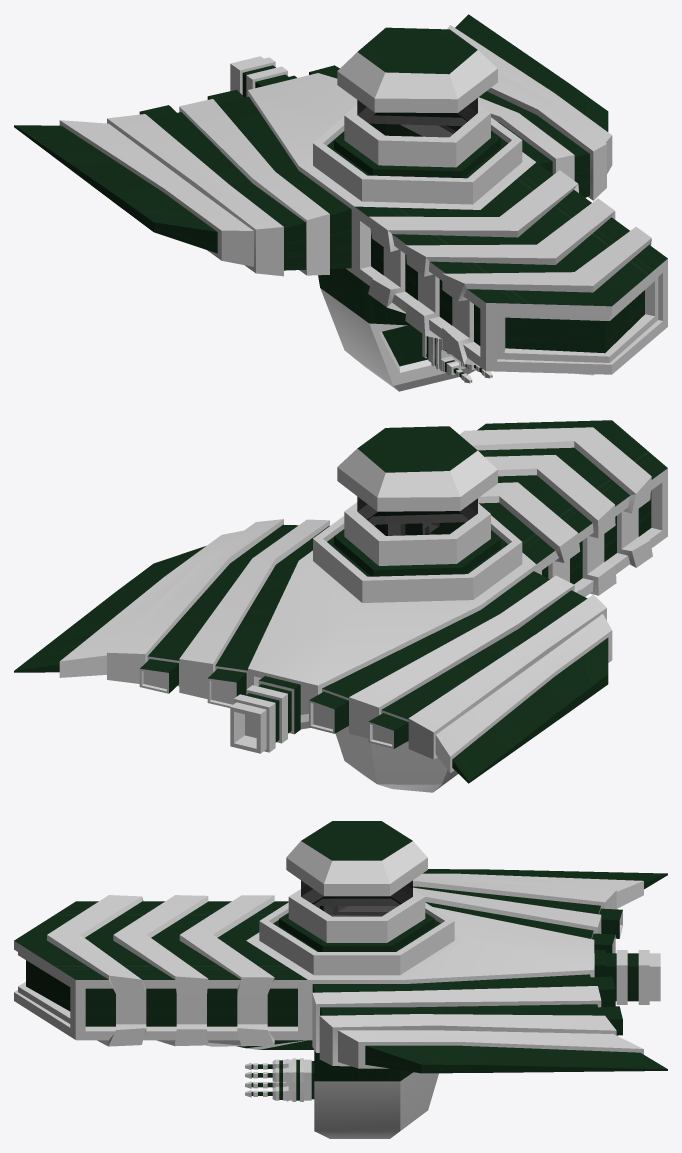
Rendered from DBC.fbx.
3 renders of one model, top to bottom at view 1: azimuth 30°, elevation 25°; view 2: azimuth 150°, elevation 25°; view 3: azimuth 270°, elevation 25°, orthographic. The views are drawn at different scales.
Parts seen in each view (by area): view 1: DBC; view 2: DBC; view 3: DBC.
Part boxes in pixels (x1,y1,x2,y2): DBC: (14,14,667,391); DBC: (14,420,667,792); DBC: (14,821,667,1138).
Size of the model in its own units: 6.01 by 4.06 by 8.49.
